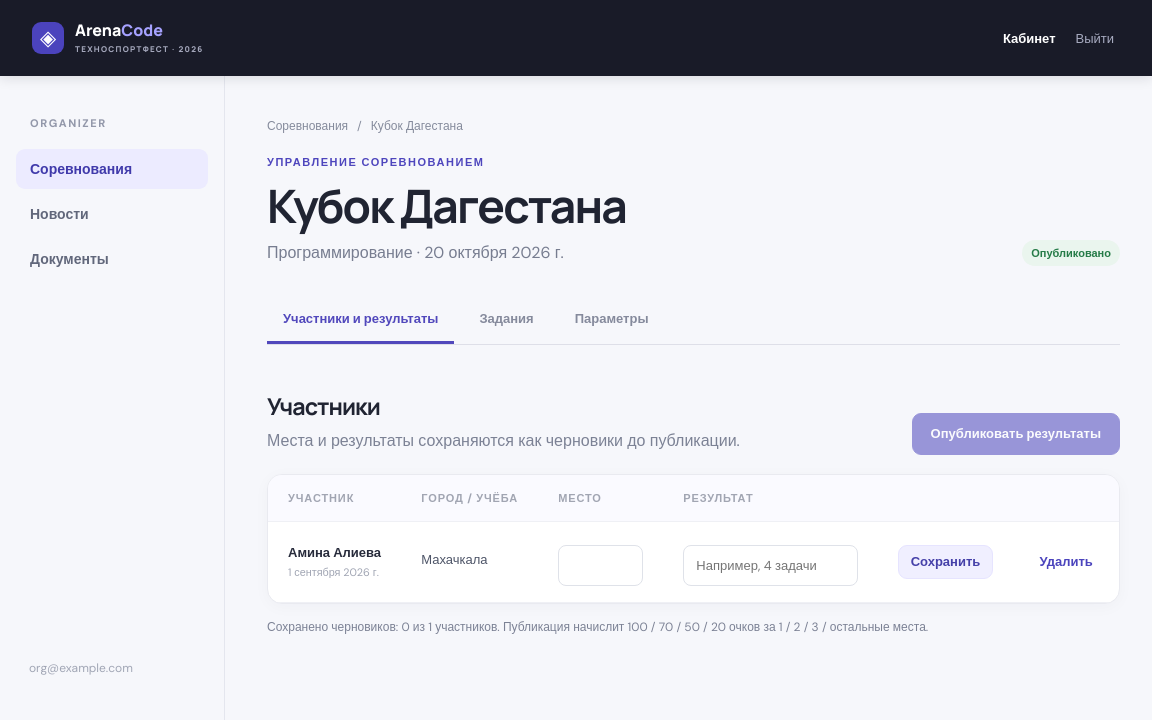
Test case: основной путь MVP › сохраняет черновик и публикует результаты организатором
In the number field named "Место: Амина Алиева": (601, 565) top-left (558, 545), bottom-right (643, 586), type "1"
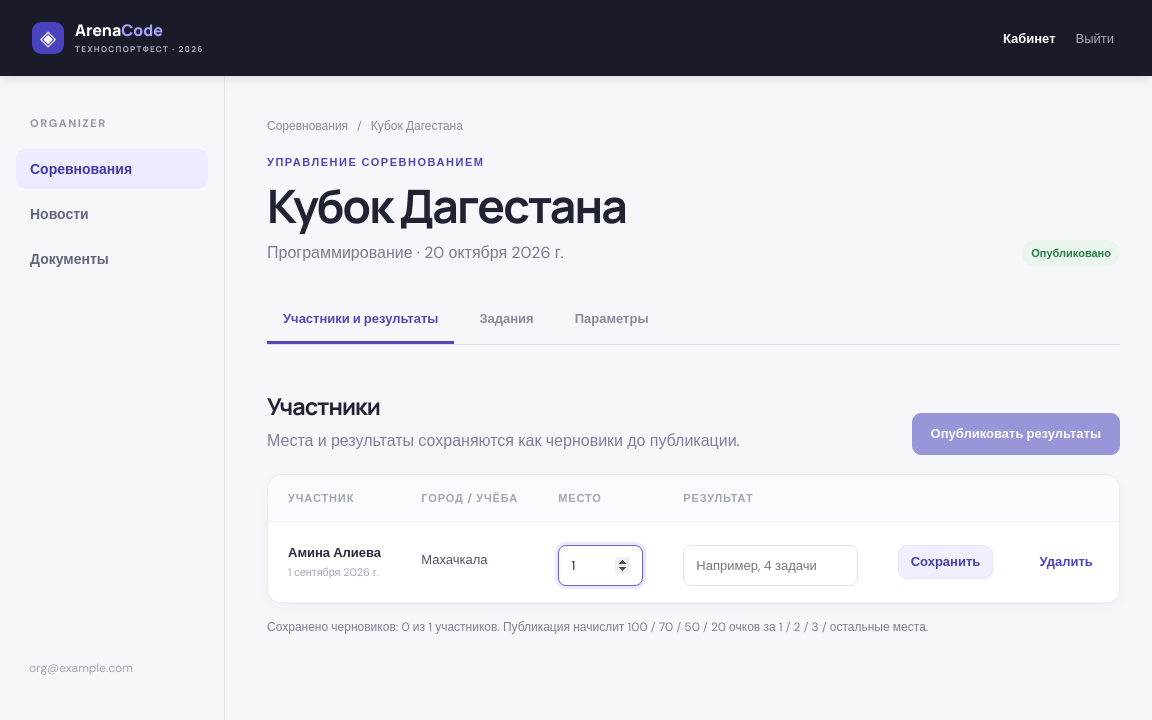
In the field named "Результат: Амина Алиева": (770, 565) top-left (683, 545), bottom-right (858, 586), type "4 задачи"
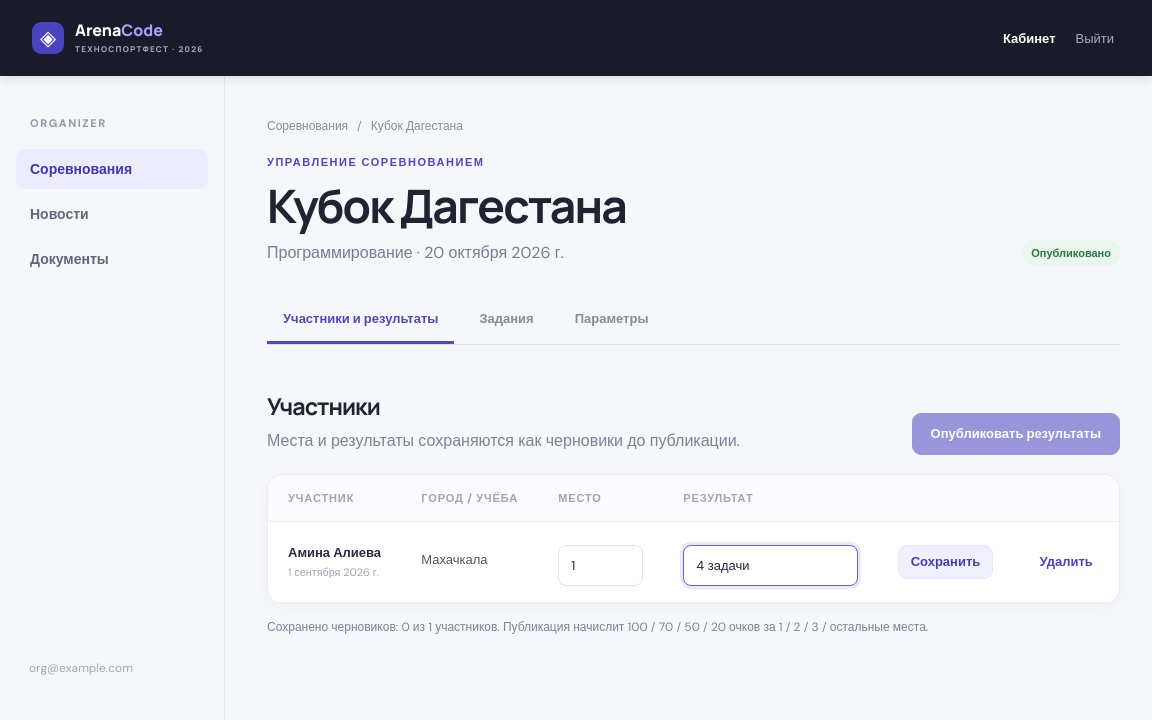
Click the button "Сохранить": (945, 562) top-left (898, 545), bottom-right (993, 579)
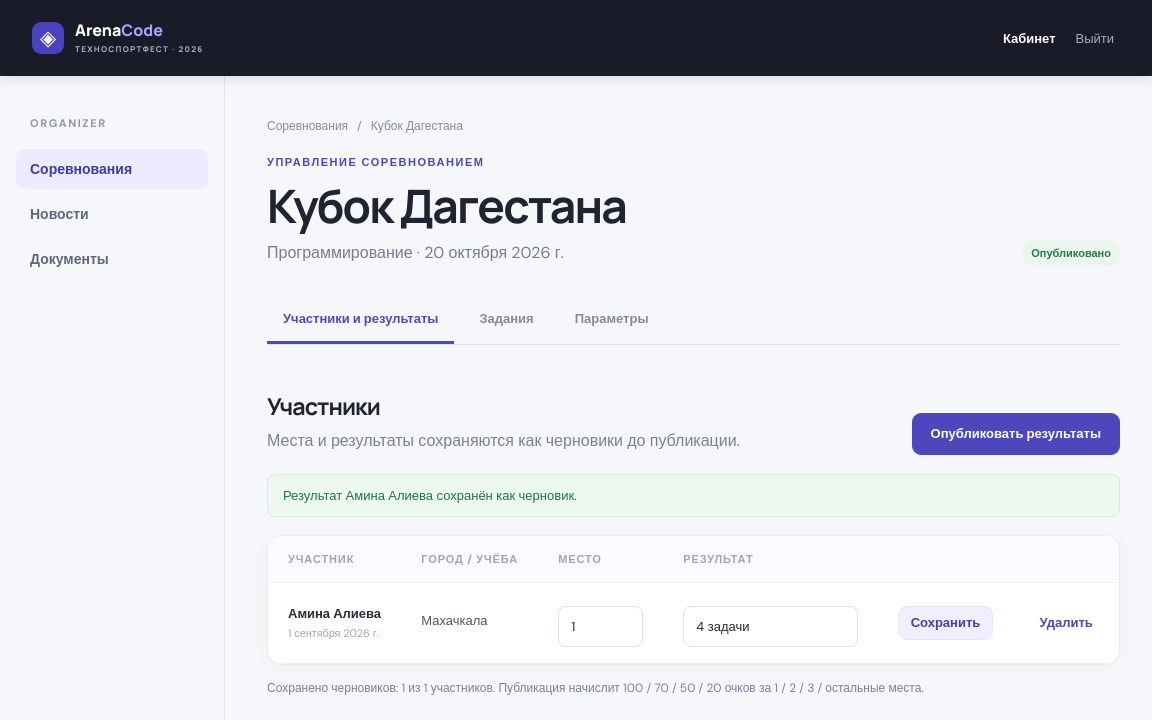
Check: the text "Сохранено черновиков: 1" is shown, box top-left (267, 680), bottom-right (924, 696)
Click the button "Опубликовать результаты": (1016, 434) top-left (912, 413), bottom-right (1120, 455)
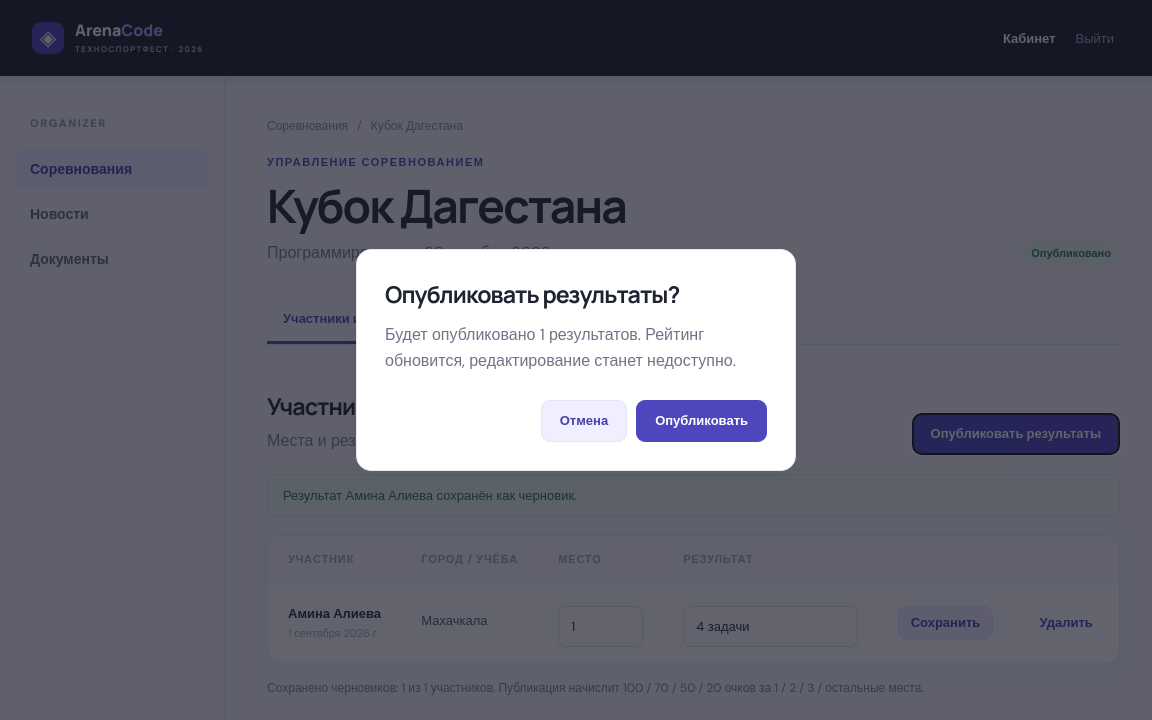
Click the button "Опубликовать": (702, 421) top-left (636, 400), bottom-right (767, 442)
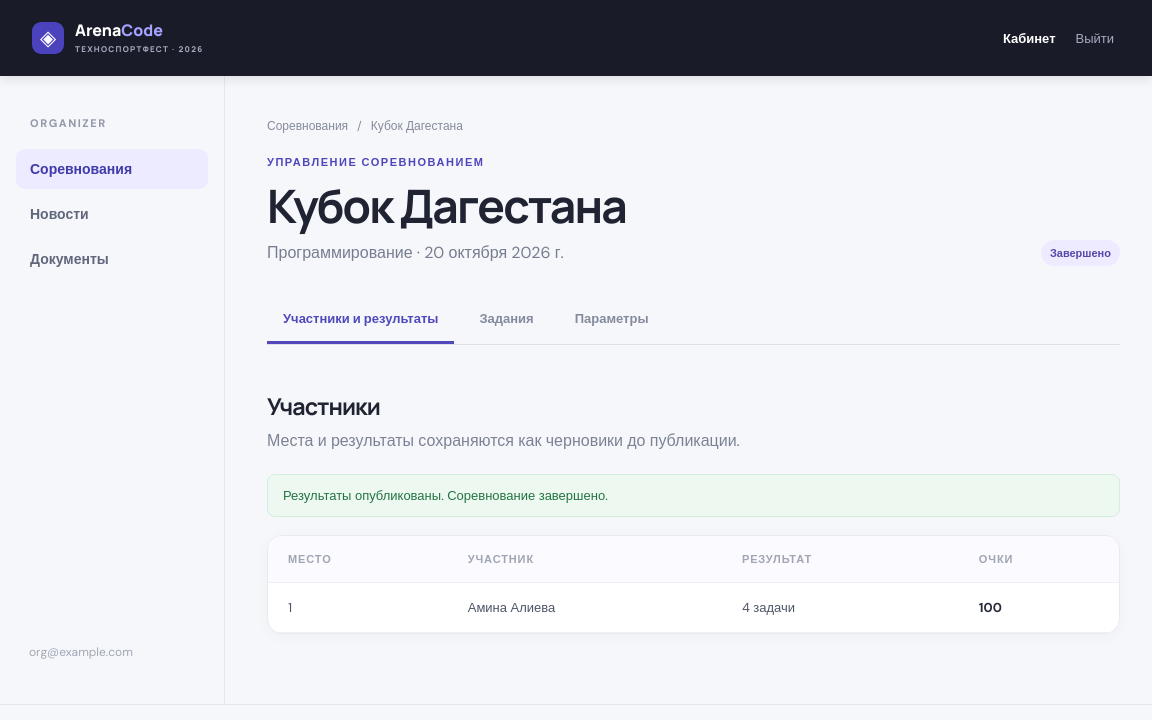
Check: the text "100" is shown, box top-left (979, 599), bottom-right (1002, 616)
